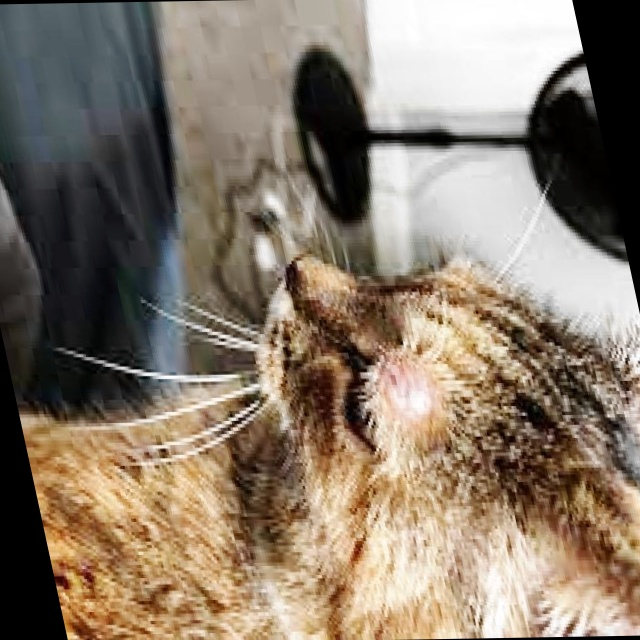lump_and_bump: (364, 341, 451, 425)
